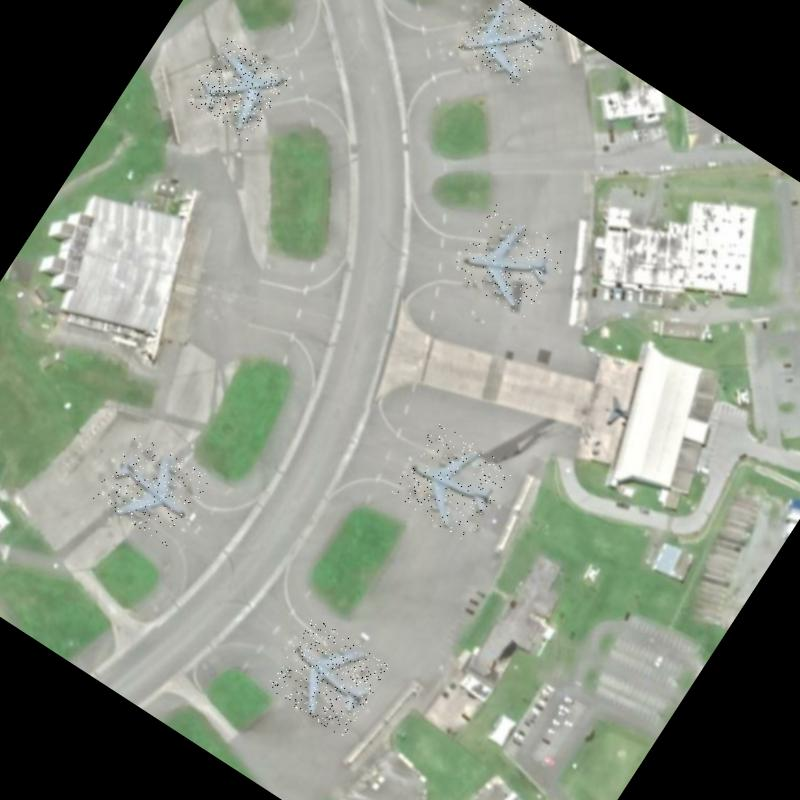A14: (389, 420, 514, 544), (266, 615, 390, 739), (90, 429, 212, 548), (450, 203, 568, 320), (184, 34, 292, 143), (456, 0, 559, 88)
